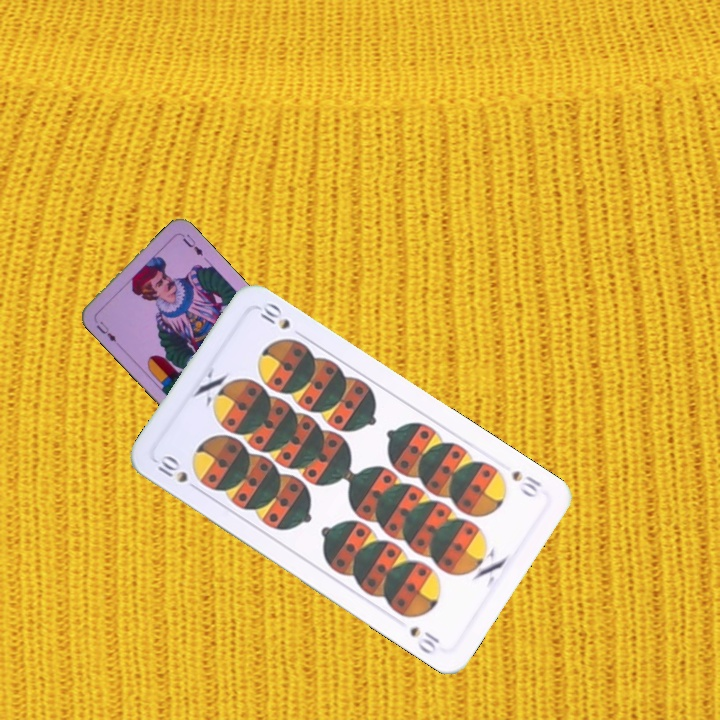EU: (92, 317, 119, 345)
S10: (151, 451, 203, 495), (506, 466, 545, 501)
